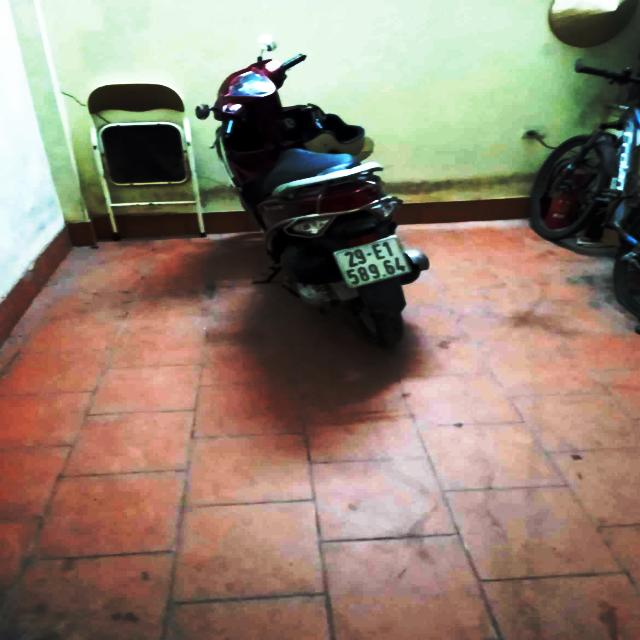license_plate: (326, 232, 419, 293)
